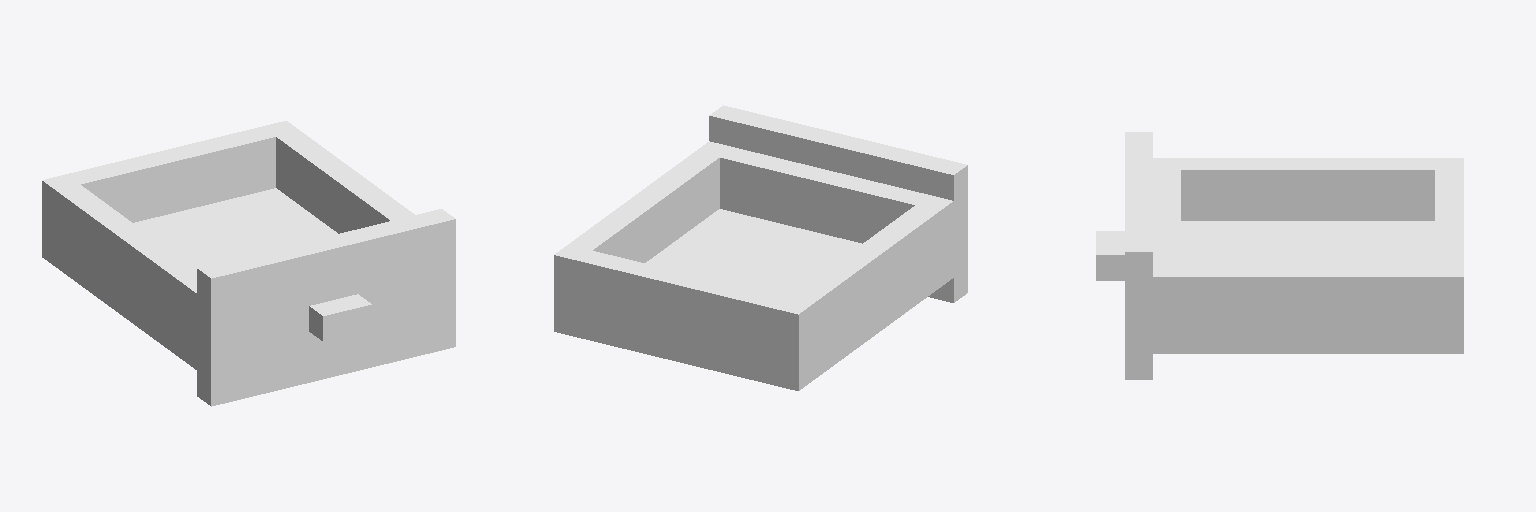
The model's file is Kitchen_cabinets-14.obj.
3 views of the same model, side by side, from view 1: azimuth 30°, elevation 25°; view 2: azimuth 150°, elevation 25°; view 3: azimuth 270°, elevation 25° (orthographic).
Visible parts, largest first — view 1: object 1; view 2: object 1; view 3: object 1.
Boxes of the visible parts, <box> form: object 1: <box>42,121,455,406</box>; object 1: <box>554,105,967,390</box>; object 1: <box>1096,132,1463,379</box>.
Bounding box in the file's own units: 1 × 0.5 × 1.3.